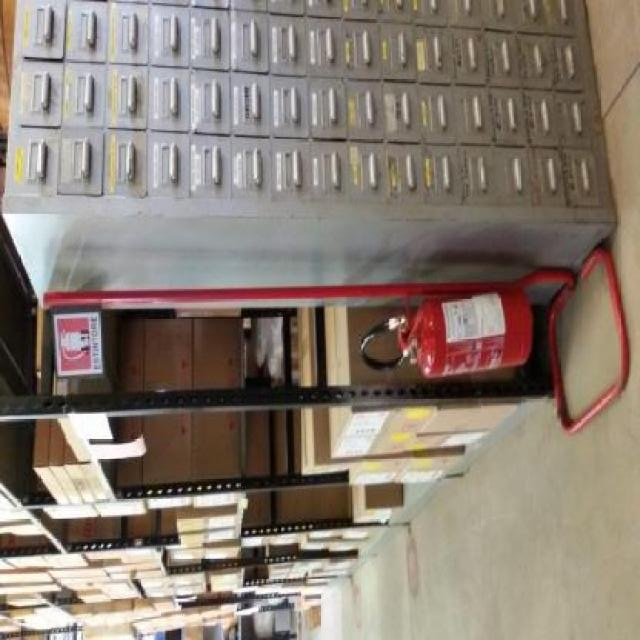fire extinguisher: (359, 286, 533, 379)
